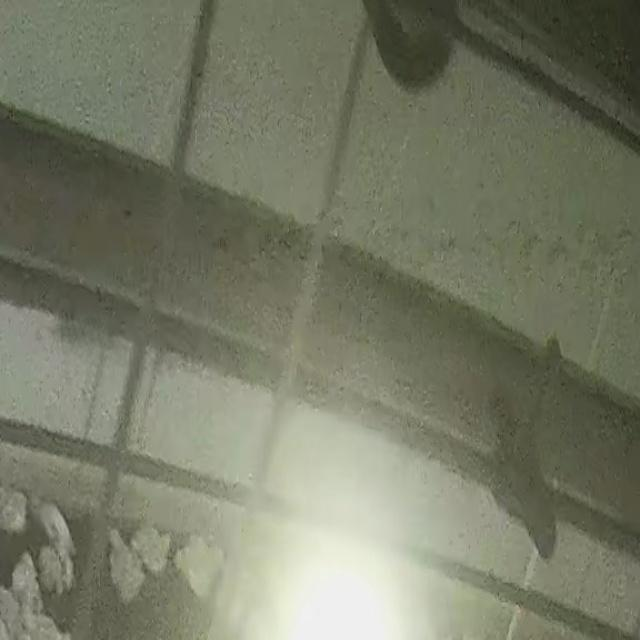chicken: (107, 522, 144, 606), (34, 497, 78, 557), (178, 532, 216, 596), (134, 515, 170, 576), (11, 547, 45, 607), (34, 542, 70, 595), (0, 487, 27, 536)
